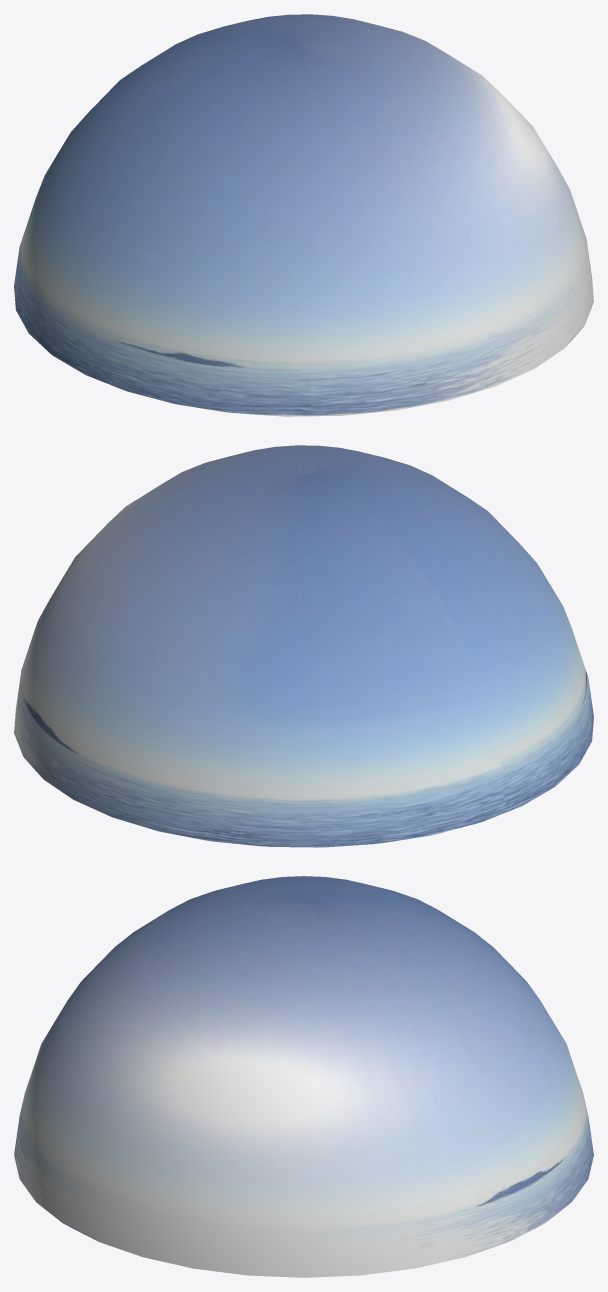
Rendered from sky.obj.
3 renders of one model, top to bottom at view 1: azimuth 30°, elevation 25°; view 2: azimuth 150°, elevation 25°; view 3: azimuth 270°, elevation 25°, orthographic.
Visible parts, largest first — view 1: Sphere; view 2: Sphere; view 3: Sphere.
Boxes of the visible parts, x1=… form: Sphere: x1=14, y1=14, x2=593, y2=416; Sphere: x1=14, y1=445, x2=593, y2=847; Sphere: x1=14, y1=876, x2=593, y2=1277.
Size of the model in its own units: 39.67 by 18.92 by 39.67.
1 material, 1 textured.
